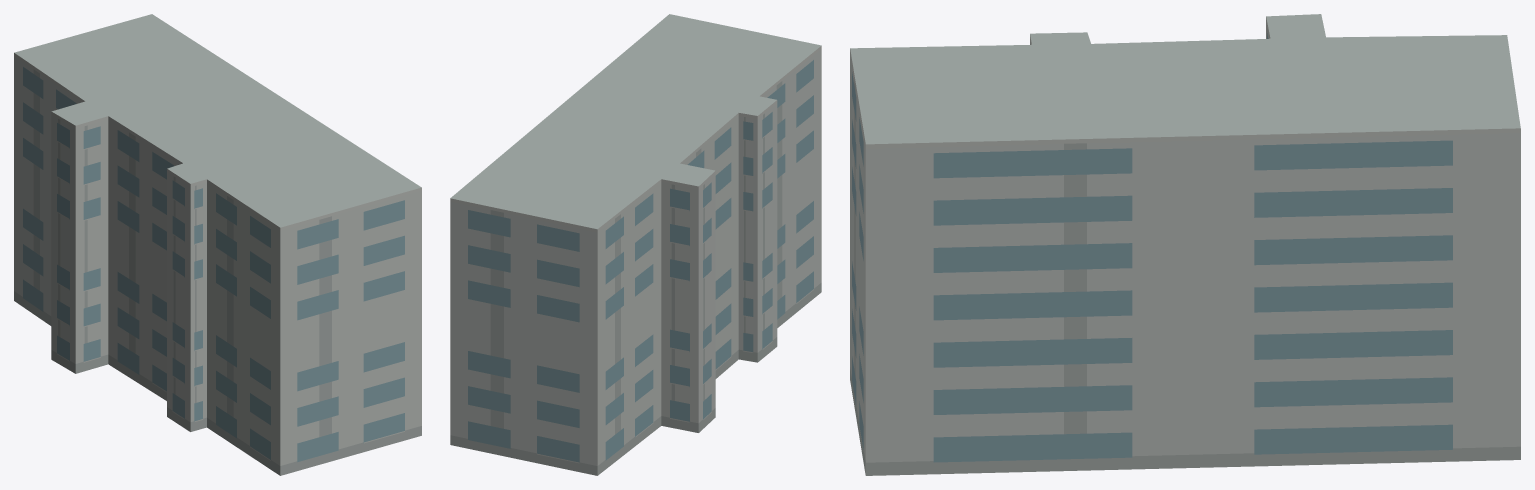
The model's file is survey-upis-32708235.glb.
3 views of the same model, side by side, from view 1: azimuth 30°, elevation 25°; view 2: azimuth 150°, elevation 25°; view 3: azimuth 270°, elevation 25° (orthographic). The views are drawn at different scales.
Parts seen in each view (by area): view 1: survey-upis-32708235.tmp; view 2: survey-upis-32708235.tmp; view 3: survey-upis-32708235.tmp.
Part boxes in pixels (x1,y1,x2,y2): survey-upis-32708235.tmp: (14,14,421,475); survey-upis-32708235.tmp: (450,14,821,475); survey-upis-32708235.tmp: (850,14,1520,475).
Bounding box in the file's own units: 15.94 × 18.9 × 34.66.
